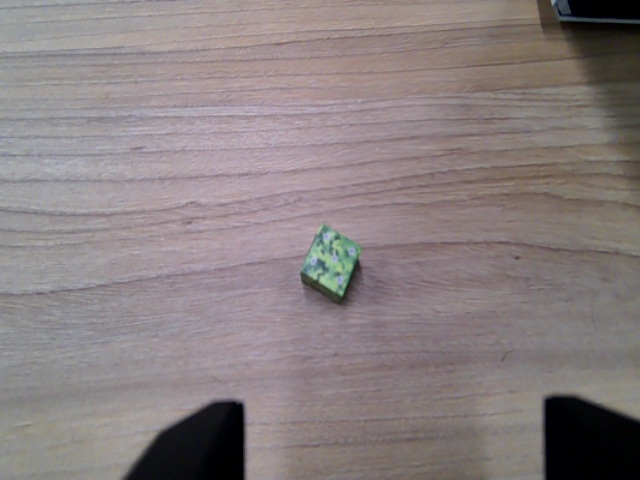grass: (291, 227, 365, 302)
